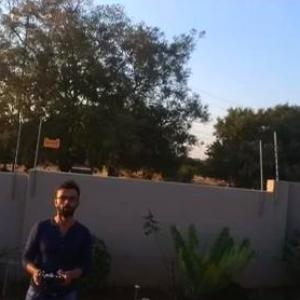follow: (14, 177, 94, 299)
